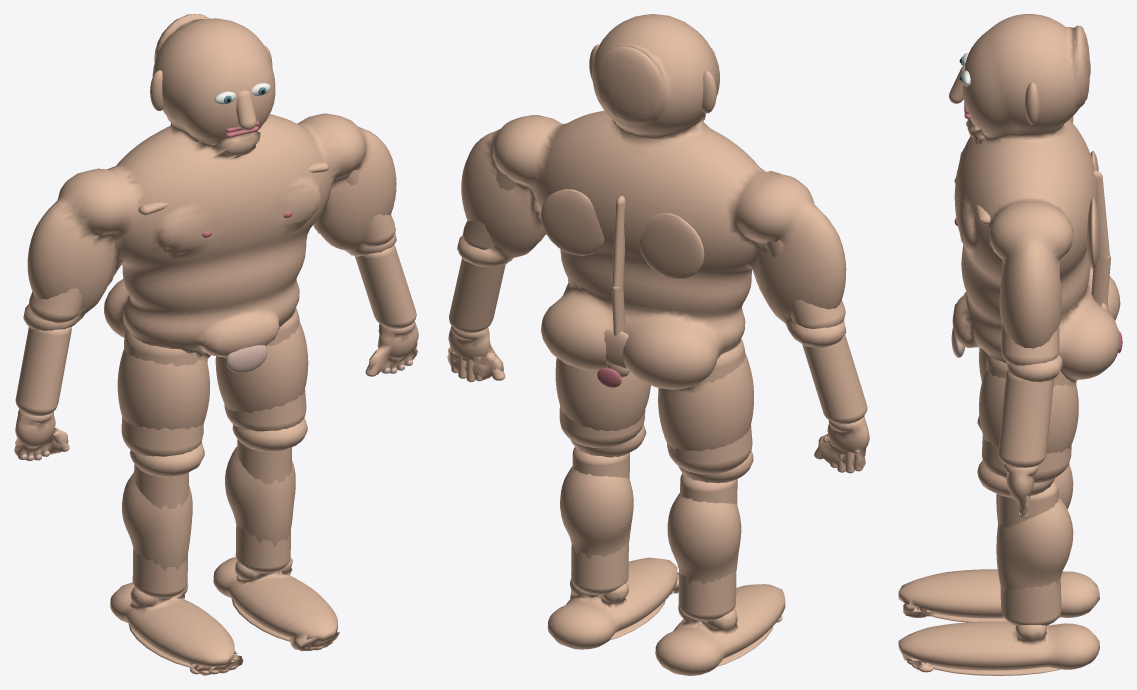
File: body-kleinkind-divers-v2.glb
3 renders of one model, left to right at view 1: azimuth 30°, elevation 25°; view 2: azimuth 150°, elevation 25°; view 3: azimuth 270°, elevation 25°, orthographic. The views are drawn at different scales.
Parts seen in each view (by area): view 1: zone__visual-surface-body-kleinkind-divers, zone__surface-forearm-left, zone__surface-thigh-left, zone__surface-lower-leg-right, zone__surface-lower-leg-left, zone__surface-forearm-right, zone__surface-thigh-right, zone__surface-upper-arm-left, zone__surface-upper-arm-right, zone__surface-genital-observation-deferred, zone__surface-nose; view 2: zone__visual-surface-body-kleinkind-divers, zone__surface-forearm-left, zone__surface-lower-leg-left, zone__surface-lower-leg-right, zone__surface-scapula-left, zone__surface-scapula-right, zone__surface-forearm-right, zone__surface-thigh-left, zone__surface-thigh-right, zone__surface-upper-arm-left, zone__surface-thoracic-spine, zone__surface-upper-arm-right (+1 smaller); view 3: zone__visual-surface-body-kleinkind-divers, zone__surface-forearm-right, zone__surface-lower-leg-right, zone__surface-thigh-right, zone__surface-upper-arm-right, zone__surface-thoracic-spine, zone__surface-lumbar-spine, zone__surface-scapula-right, zone__surface-sole-right, zone__surface-ear-right.
Boxes of the visible parts, x1=… form: zone__visual-surface-body-kleinkind-divers: x1=14, y1=14, x2=418, y2=675; zone__surface-forearm-left: x1=15, y1=327, x2=71, y2=415; zone__surface-thigh-left: x1=121, y1=330, x2=203, y2=456; zone__surface-lower-leg-right: x1=235, y1=439, x2=291, y2=573; zone__surface-lower-leg-left: x1=132, y1=464, x2=188, y2=598; zone__surface-forearm-right: x1=355, y1=245, x2=416, y2=328; zone__surface-thigh-right: x1=224, y1=307, x2=306, y2=431; zone__surface-upper-arm-left: x1=29, y1=235, x2=102, y2=322; zone__surface-upper-arm-right: x1=346, y1=169, x2=395, y2=246; zone__surface-genital-observation-deferred: x1=226, y1=345, x2=267, y2=372; zone__surface-nose: x1=236, y1=90, x2=256, y2=130; zone__visual-surface-body-kleinkind-divers: x1=447, y1=14, x2=869, y2=675; zone__surface-forearm-left: x1=802, y1=334, x2=867, y2=424; zone__surface-lower-leg-left: x1=678, y1=473, x2=737, y2=621; zone__surface-lower-leg-right: x1=571, y1=447, x2=629, y2=595; zone__surface-scapula-left: x1=639, y1=212, x2=704, y2=279; zone__surface-scapula-right: x1=540, y1=189, x2=604, y2=255; zone__surface-forearm-right: x1=449, y1=258, x2=505, y2=333; zone__surface-thigh-left: x1=667, y1=339, x2=752, y2=474; zone__surface-thigh-right: x1=559, y1=406, x2=645, y2=448; zone__surface-upper-arm-left: x1=764, y1=239, x2=845, y2=328; zone__surface-thoracic-spine: x1=612, y1=195, x2=625, y2=291; zone__surface-upper-arm-right: x1=462, y1=171, x2=516, y2=249; zone__visual-surface-body-kleinkind-divers: x1=898, y1=14, x2=1120, y2=670; zone__surface-forearm-right: x1=998, y1=369, x2=1053, y2=467; zone__surface-lower-leg-right: x1=998, y1=481, x2=1061, y2=625; zone__surface-thigh-right: x1=981, y1=354, x2=1071, y2=482; zone__surface-upper-arm-right: x1=1001, y1=259, x2=1060, y2=365; zone__surface-thoracic-spine: x1=1093, y1=170, x2=1109, y2=262; zone__surface-lumbar-spine: x1=1091, y1=255, x2=1110, y2=305; zone__surface-scapula-right: x1=1086, y1=198, x2=1099, y2=268; zone__surface-sole-right: x1=929, y1=664, x2=1061, y2=675; zone__surface-ear-right: x1=1024, y1=82, x2=1040, y2=124.
Size of the model in its own units: 0.7036 by 1 by 0.3286.
